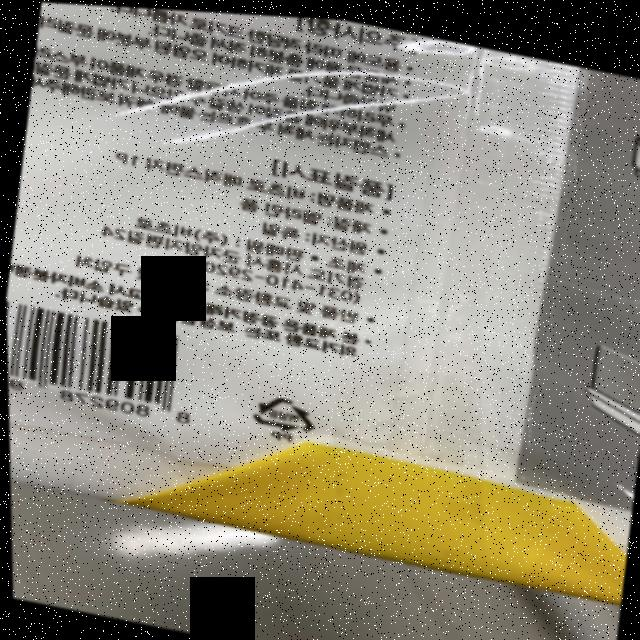Vinyl: (247, 387, 317, 434)
